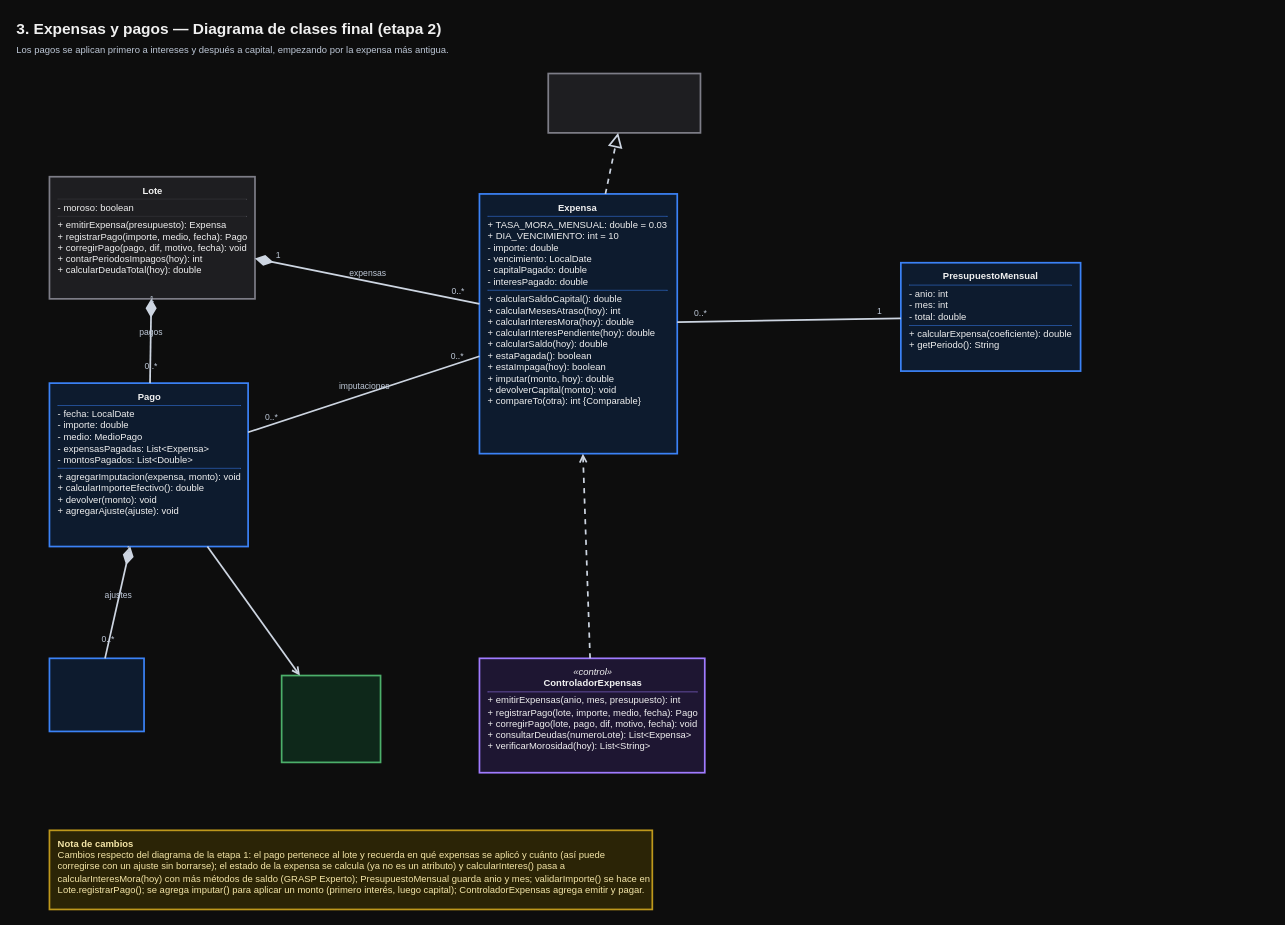
The diagram is 1285 pixels wide and 925 high, and some of its shapes have lost their labels. The centre of each missing label's shape, as x and y in pixels:
"AjustePago - fecha: LocalDate - importe: double - motivo: String" belongs at [96,694].
"«enumeration» MedioPago EFECTIVO TRANSFERENCIA TARJETA" belongs at [330,718].
"«interface» Comparable<Expensa> + compareTo(otra: Expensa): int" belongs at [624,102].
